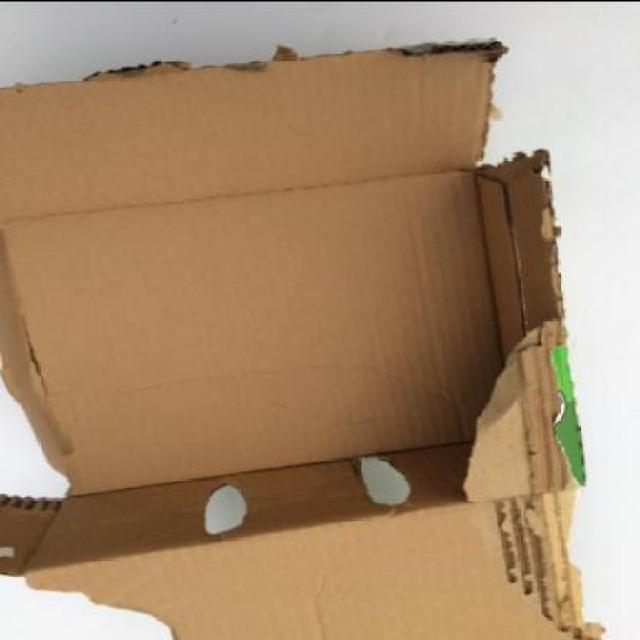CARDBOARD: (1, 40, 608, 638), (2, 170, 504, 493), (2, 434, 606, 638), (2, 38, 504, 219), (433, 148, 592, 500)
